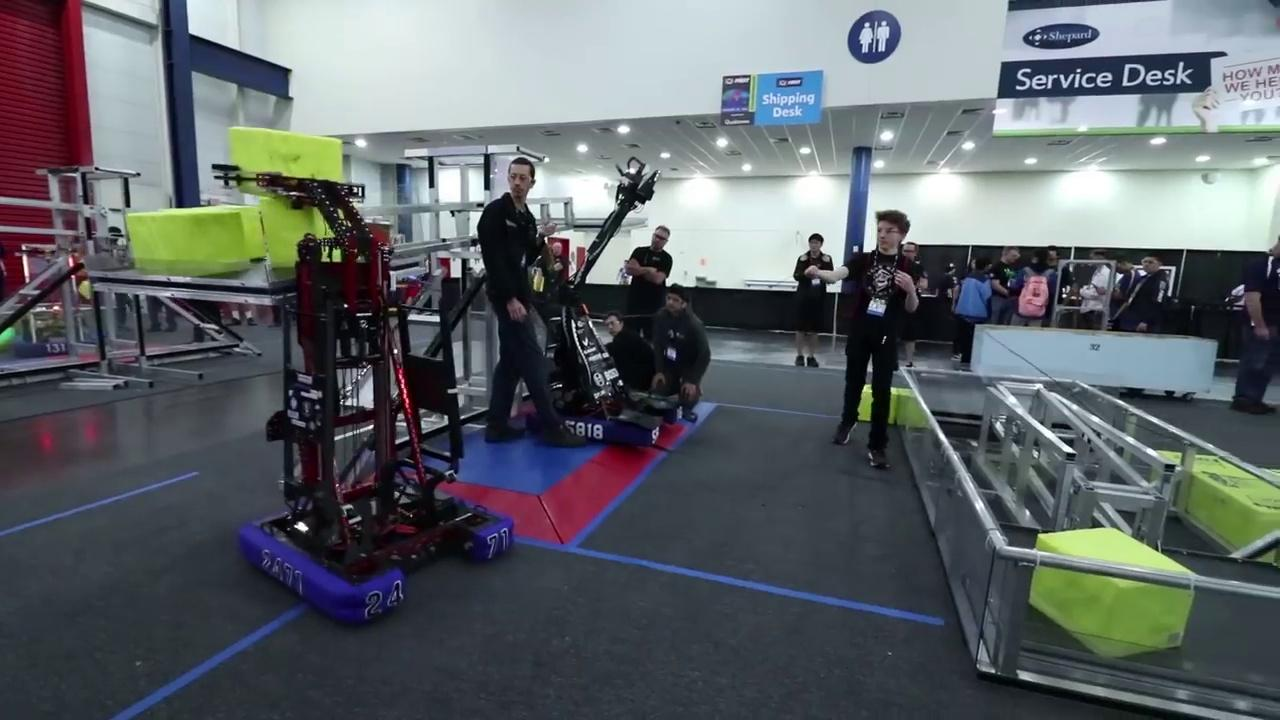robot: (214, 166, 522, 636), (534, 154, 682, 460)
